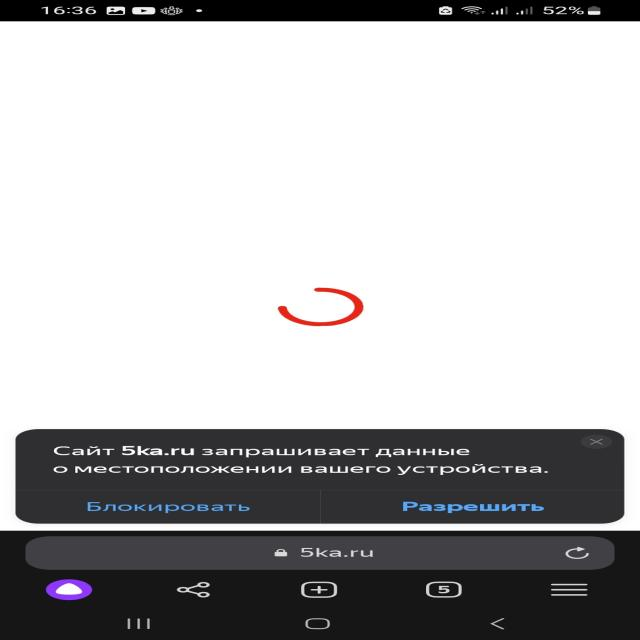button: (44, 491, 290, 519), (354, 493, 588, 519)
site: (18, 429, 621, 524)
